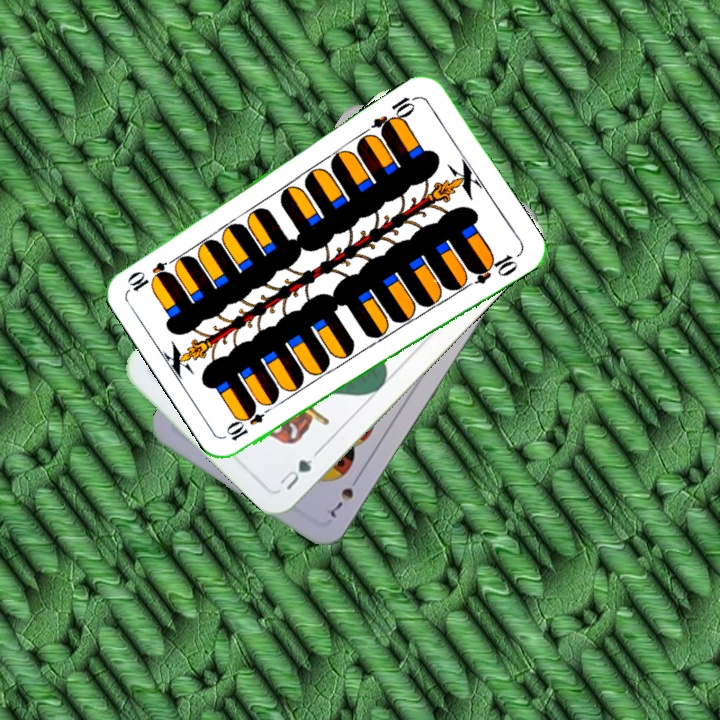E10: (368, 91, 421, 137), (222, 400, 277, 444)
GU: (275, 455, 316, 493)
S7: (325, 470, 363, 521)
